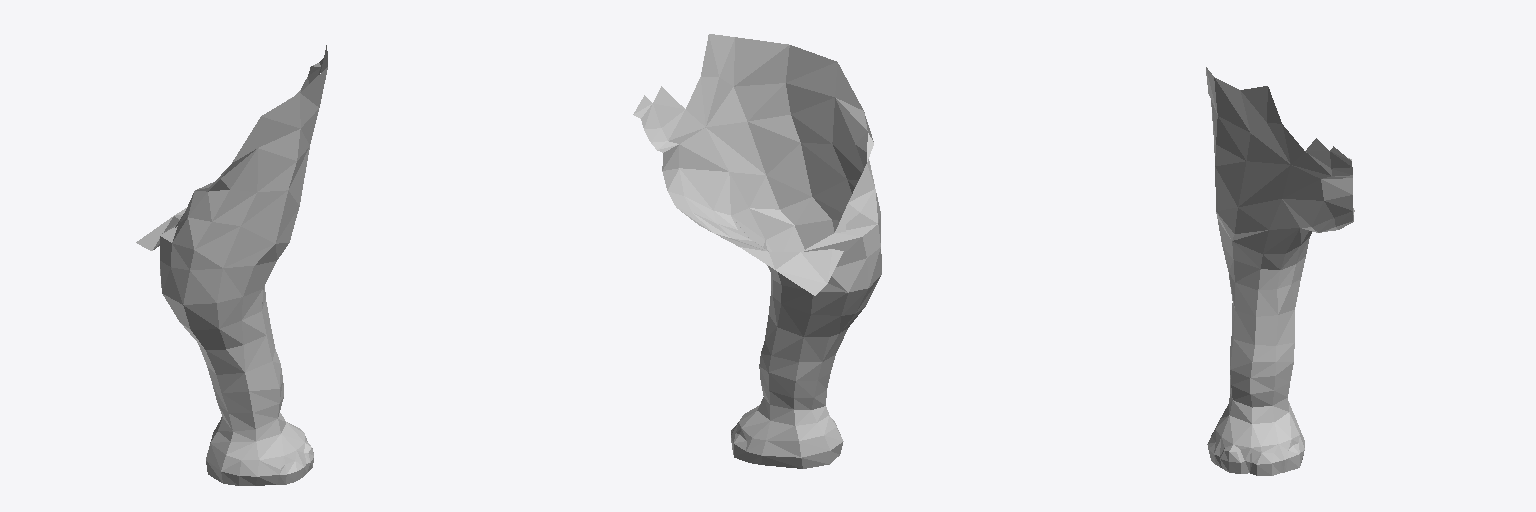
Rendered from patader.obj.
3 renders of one model, left to right at view 1: azimuth 30°, elevation 25°; view 2: azimuth 150°, elevation 25°; view 3: azimuth 270°, elevation 25°, orthographic.
Visible parts, largest first — view 1: patder; view 2: patder; view 3: patder.
Part boxes in pixels (x1,y1,x2,y2): patder: (136,45,327,485); patder: (633,34,881,468); patder: (1206,67,1354,475).
Bounding box in the file's own units: 12.38 × 24.09 × 8.06.